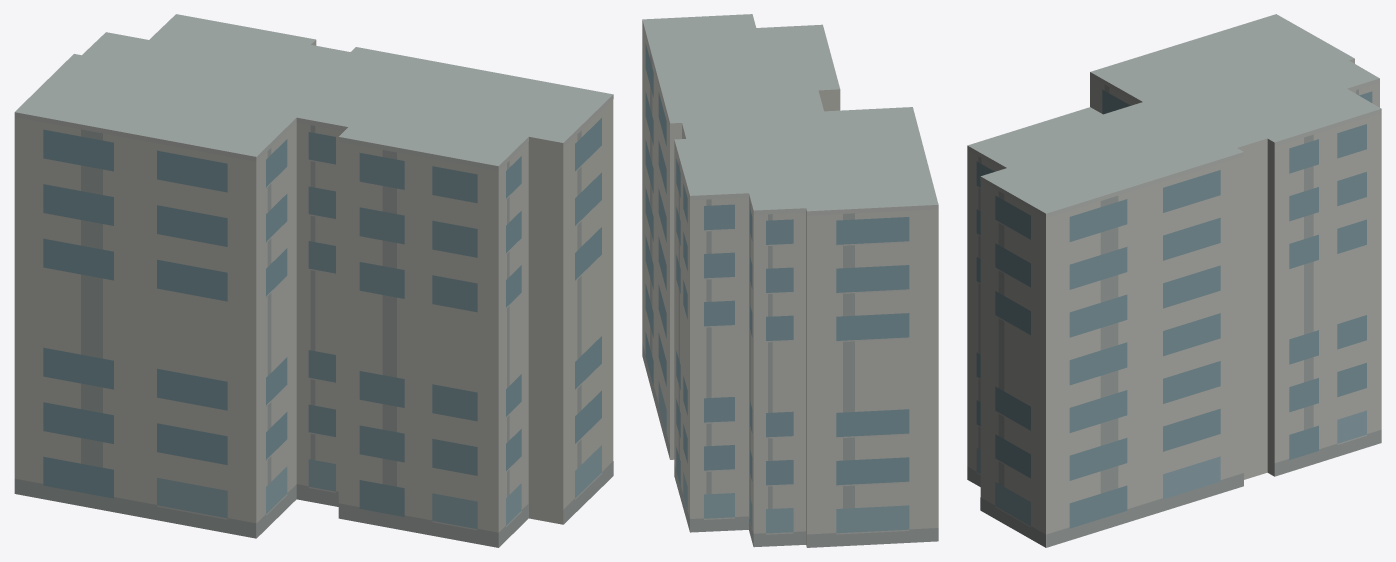
Rendered from survey-upis-32750187.glb.
3 renders of one model, left to right at view 1: azimuth 30°, elevation 25°; view 2: azimuth 150°, elevation 25°; view 3: azimuth 270°, elevation 25°, orthographic. The views are drawn at different scales.
Parts seen in each view (by area): view 1: survey-upis-32750187.tmp; view 2: survey-upis-32750187.tmp; view 3: survey-upis-32750187.tmp.
Part boxes in pixels (box(x1,y1,x2,y2)): survey-upis-32750187.tmp: box(14, 14, 613, 547); survey-upis-32750187.tmp: box(642, 14, 938, 547); survey-upis-32750187.tmp: box(967, 14, 1381, 547).
Size of the model in its own units: 23.97 by 18.7 by 21.02.
